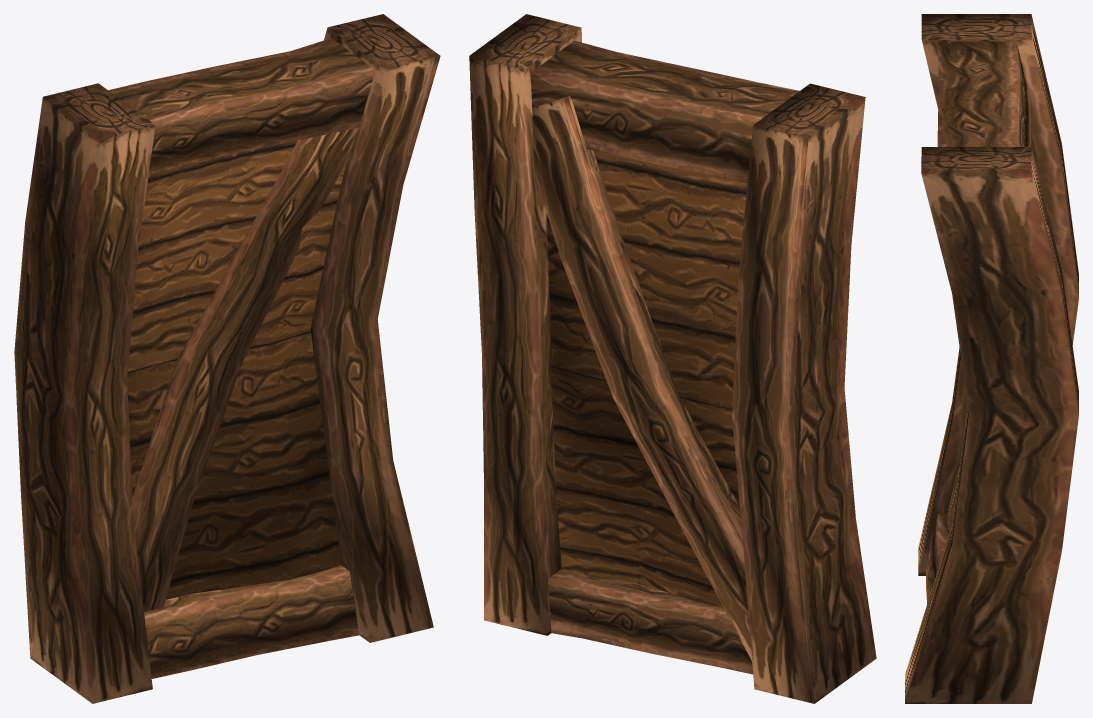
The model's file is window_barn2.fbx.
3 views of the same model, side by side, from view 1: azimuth 30°, elevation 25°; view 2: azimuth 150°, elevation 25°; view 3: azimuth 270°, elevation 25° (orthographic). The views are drawn at different scales.
Visible parts, largest first — view 1: window_barn2; view 2: window_barn2; view 3: window_barn2.
Boxes of the visible parts, bbox=[...] form: window_barn2: bbox=[14, 14, 440, 703]; window_barn2: bbox=[469, 14, 876, 703]; window_barn2: bbox=[905, 14, 1078, 703].
Bounding box in the file's own units: 47.66 × 73.5 × 21.43.
